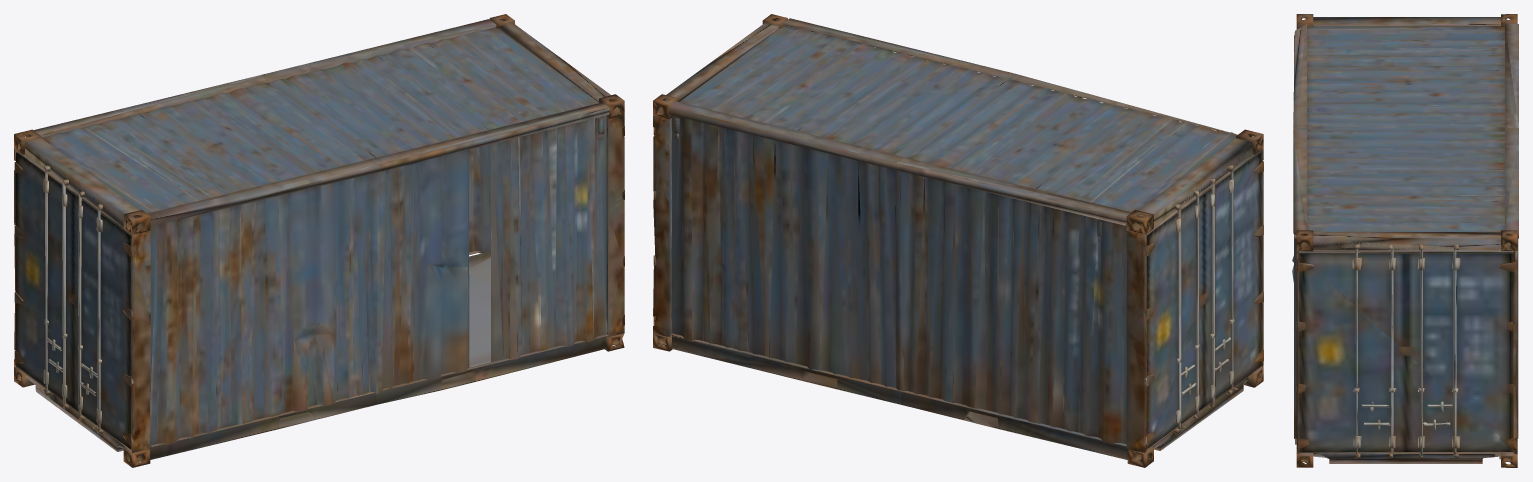
The model's file is container.glb.
3 views of the same model, side by side, from view 1: azimuth 30°, elevation 25°; view 2: azimuth 150°, elevation 25°; view 3: azimuth 270°, elevation 25° (orthographic). The views are drawn at different scales.
Visible parts, largest first — view 1: geometry_0; view 2: geometry_0; view 3: geometry_0.
Boxes of the visible parts, box(x1,y1,x2,y2) form: geometry_0: box(14, 14, 624, 467); geometry_0: box(653, 14, 1263, 467); geometry_0: box(1292, 14, 1518, 467).
Size of the model in its own units: 0.9731 by 0.4536 by 0.4048.
1 material, 1 textured.
